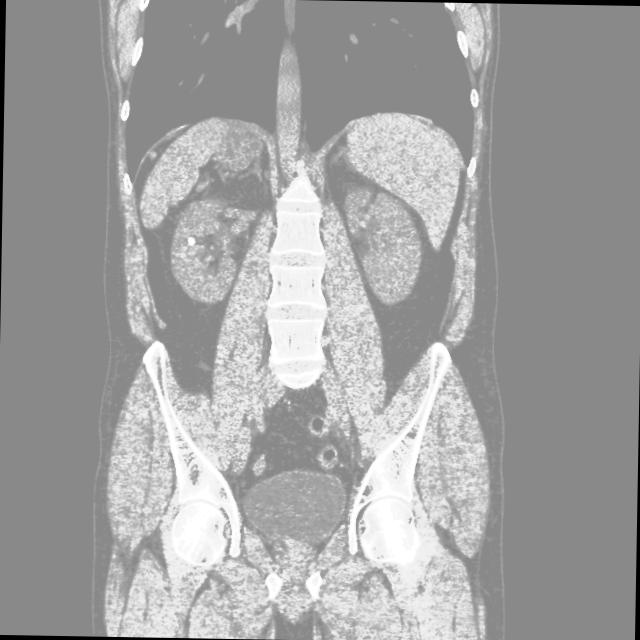STONE: (25, 182, 516, 351)
